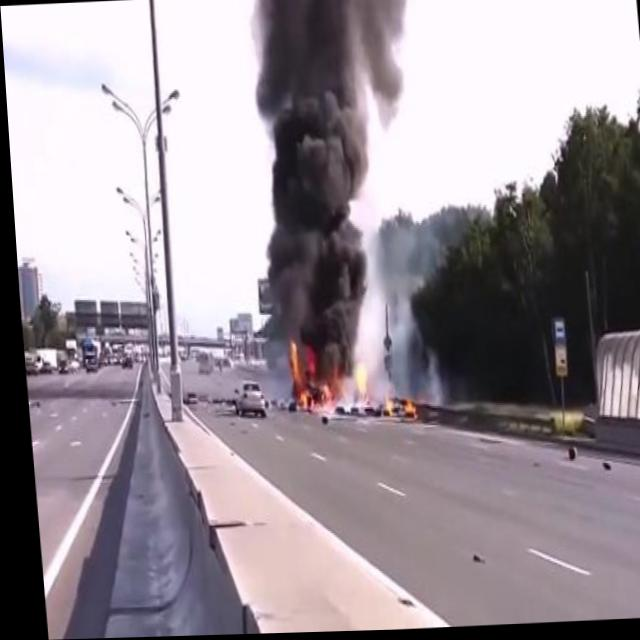fire: (274, 327, 366, 418), (377, 393, 413, 425)
